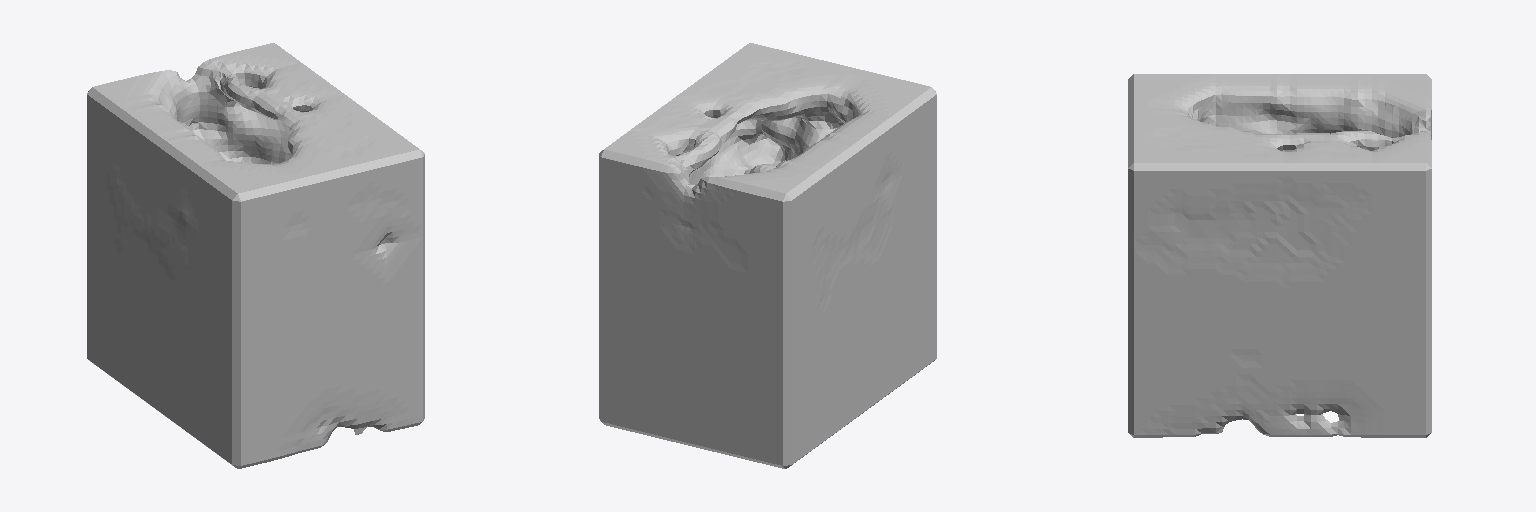
The picture shows the model from 3 angles: view 1: azimuth 30°, elevation 25°; view 2: azimuth 150°, elevation 25°; view 3: azimuth 270°, elevation 25°; orthographic projection.
Parts seen in each view (by area): view 1: Liquid_Domain; view 2: Liquid_Domain; view 3: Liquid_Domain.
Part boxes in pixels (x1,y1,x2,y2): Liquid_Domain: (87, 43, 424, 468); Liquid_Domain: (599, 43, 936, 468); Liquid_Domain: (1128, 74, 1431, 437).
Bounding box in the file's own units: 79.09 × 108 × 108.